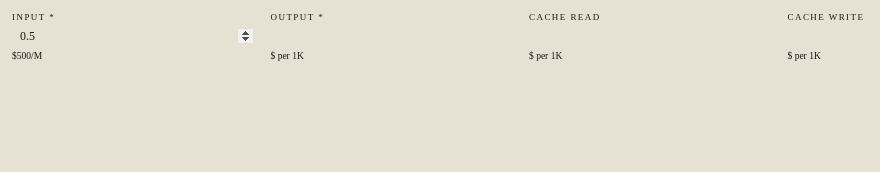
RateFields shows the per-million figure
The image size is (880, 172).
Expected: the text "$500/M" is shown, top-left (12, 51), bottom-right (42, 61)
Expected: the text "$ per 1K" is shown 3 times, top-left (270, 51), bottom-right (304, 61); top-left (529, 51), bottom-right (562, 61); top-left (788, 51), bottom-right (821, 61)
Step 1. Type "1.5" into the number field labelled "Output * $ per 1K" → point(395, 36), box top-left (270, 24), bottom-right (519, 49)
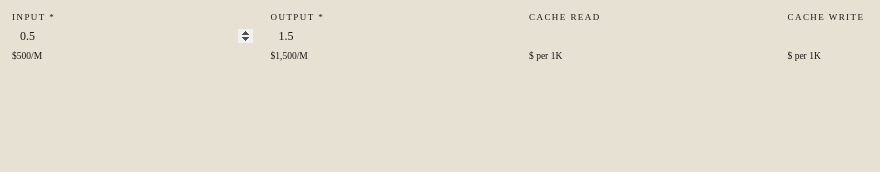
Expected: the text "$1,500/M" is shown, top-left (270, 51), bottom-right (308, 61)
